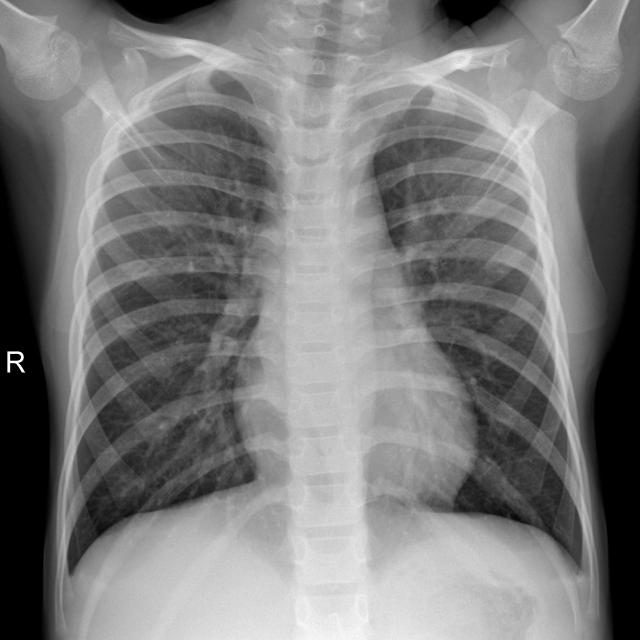no-pneumonia: (68, 63, 280, 566), (374, 85, 590, 563)
